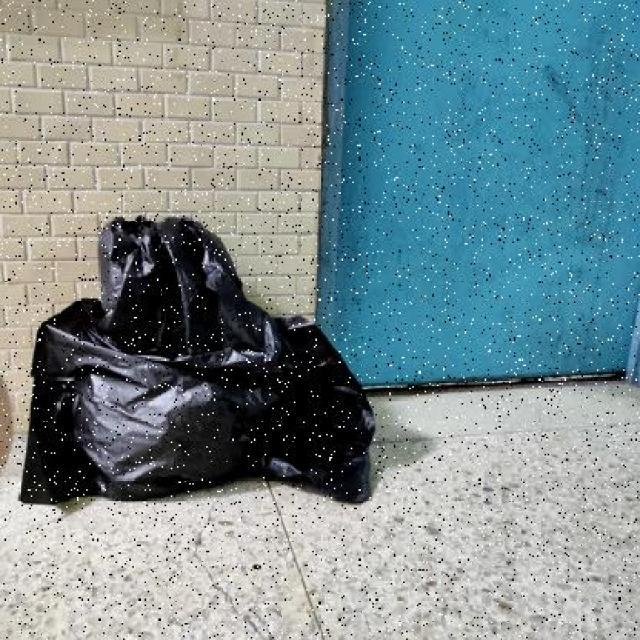waste: (15, 194, 382, 520)
